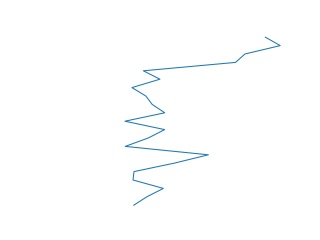crevasseRiverChannelBar: (121, 34, 285, 209)
